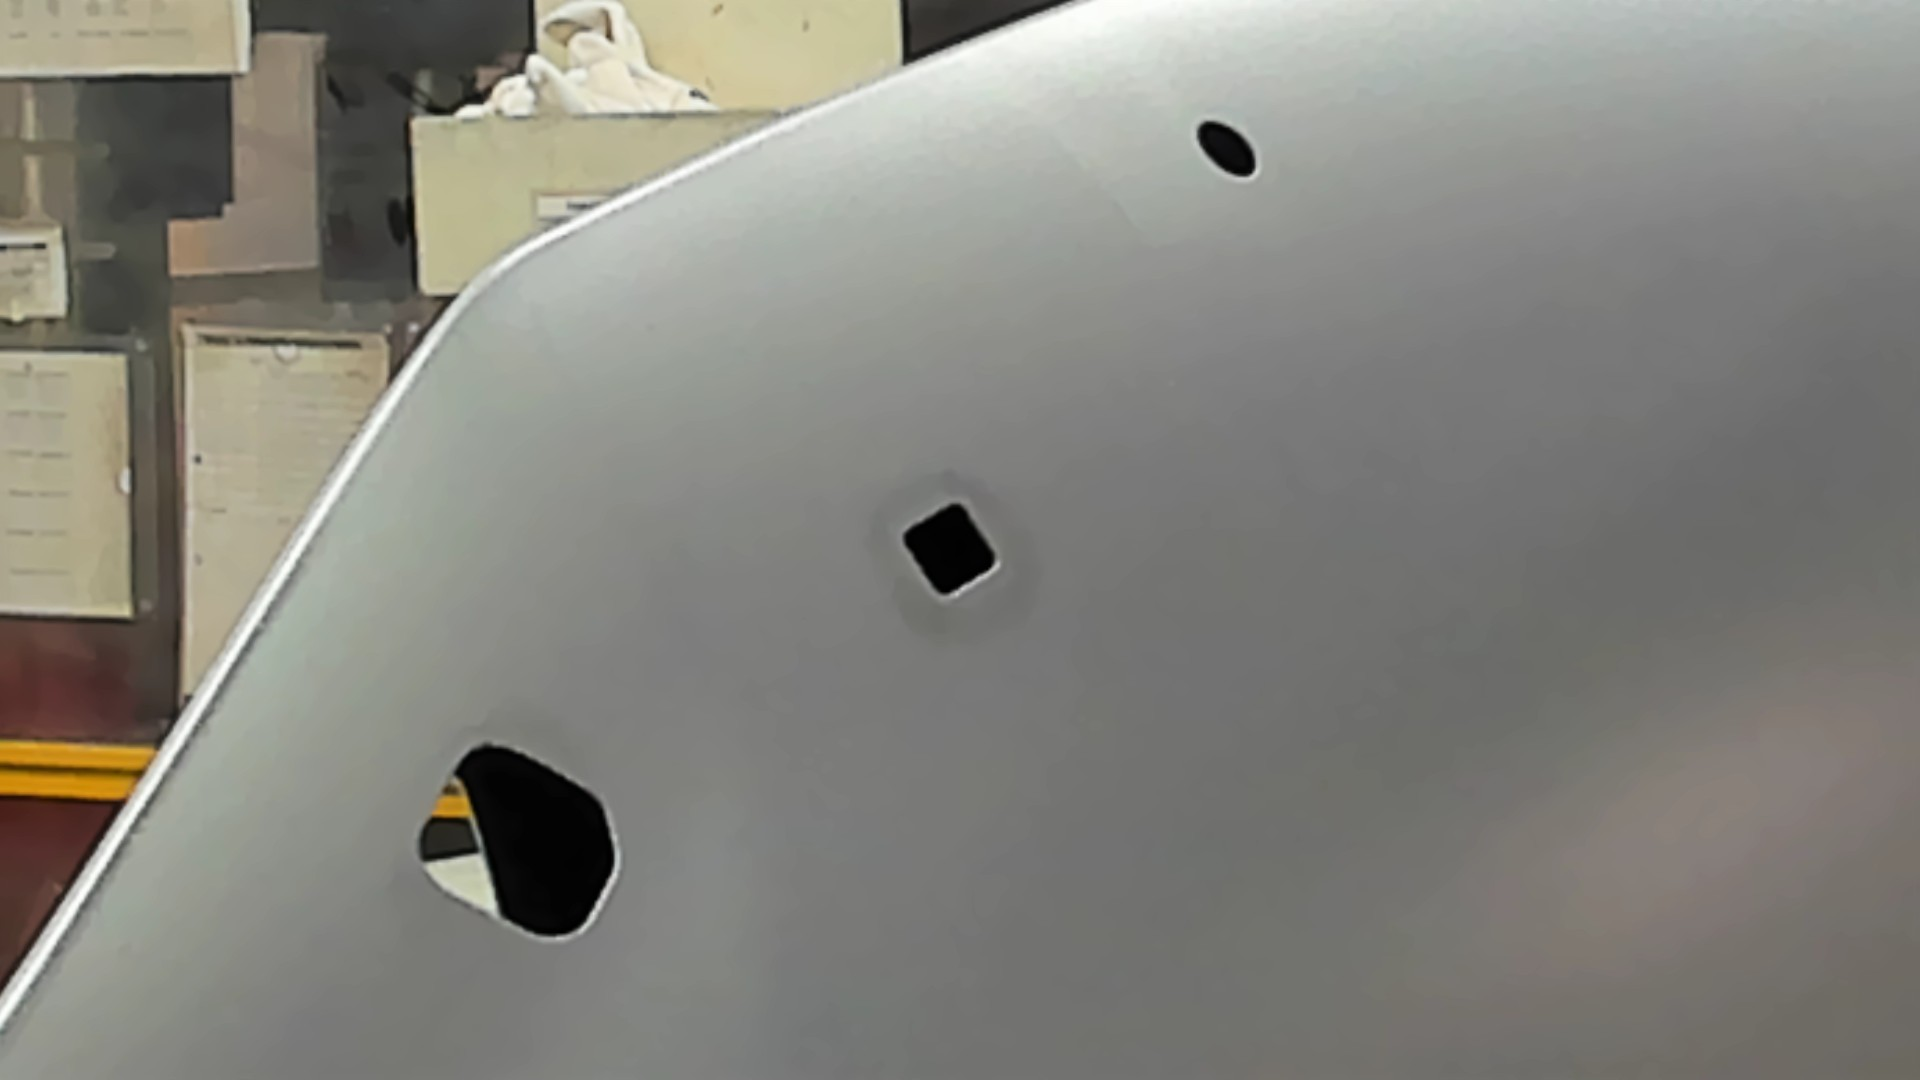chico: (1193, 117, 1259, 181)
grande: (414, 738, 622, 949)
mediano: (901, 498, 1002, 605)
